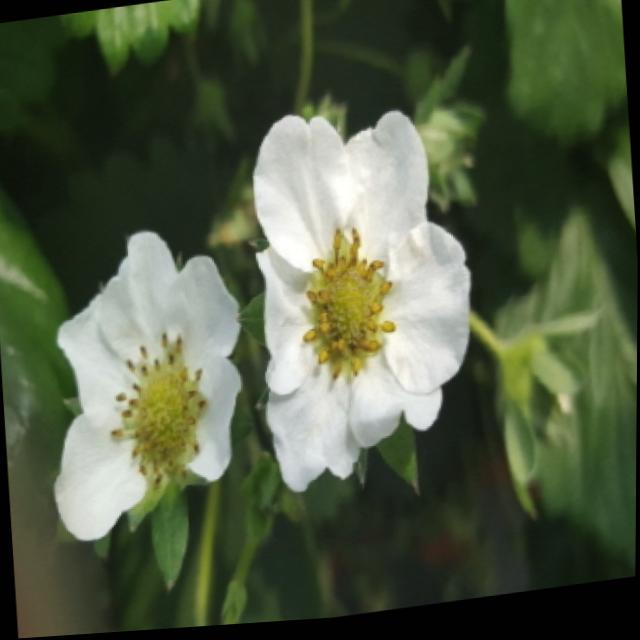Blossom Blight: (106, 331, 216, 494)
